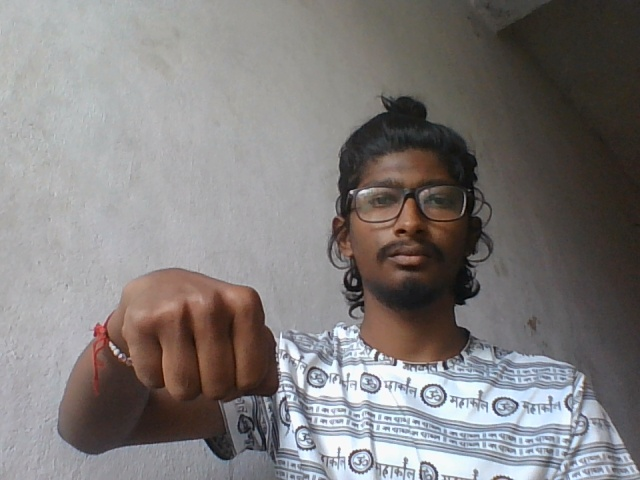Change: (108, 285, 293, 415)
